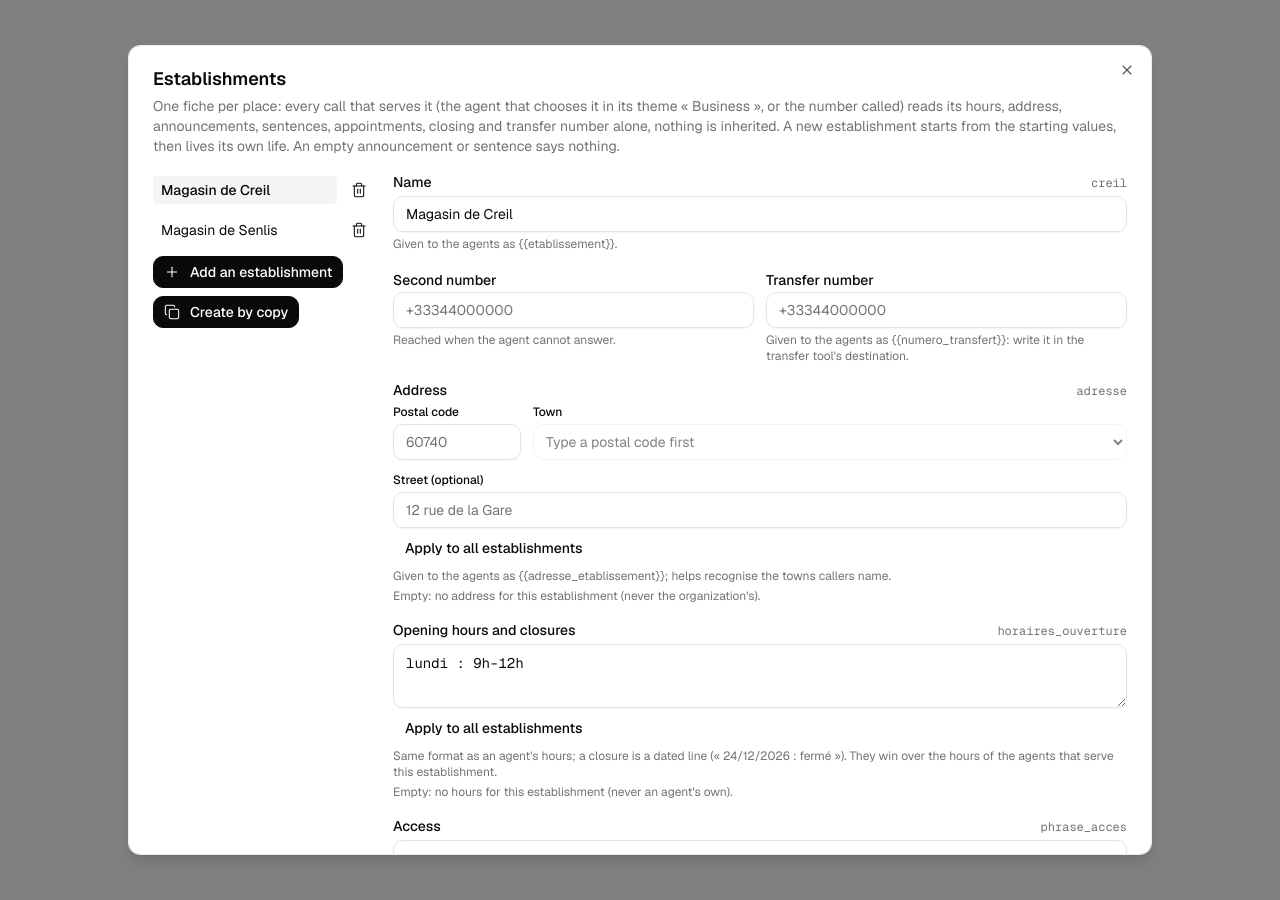
Scenario: [.mark] Apply to all establishments (D152) › names the establishments written and the value, sends only which setting, then reads the list again
Click the button with test id "appliquer-a-tous-fiche-horaires_ouverture": (494, 728) [393,712,594,744]
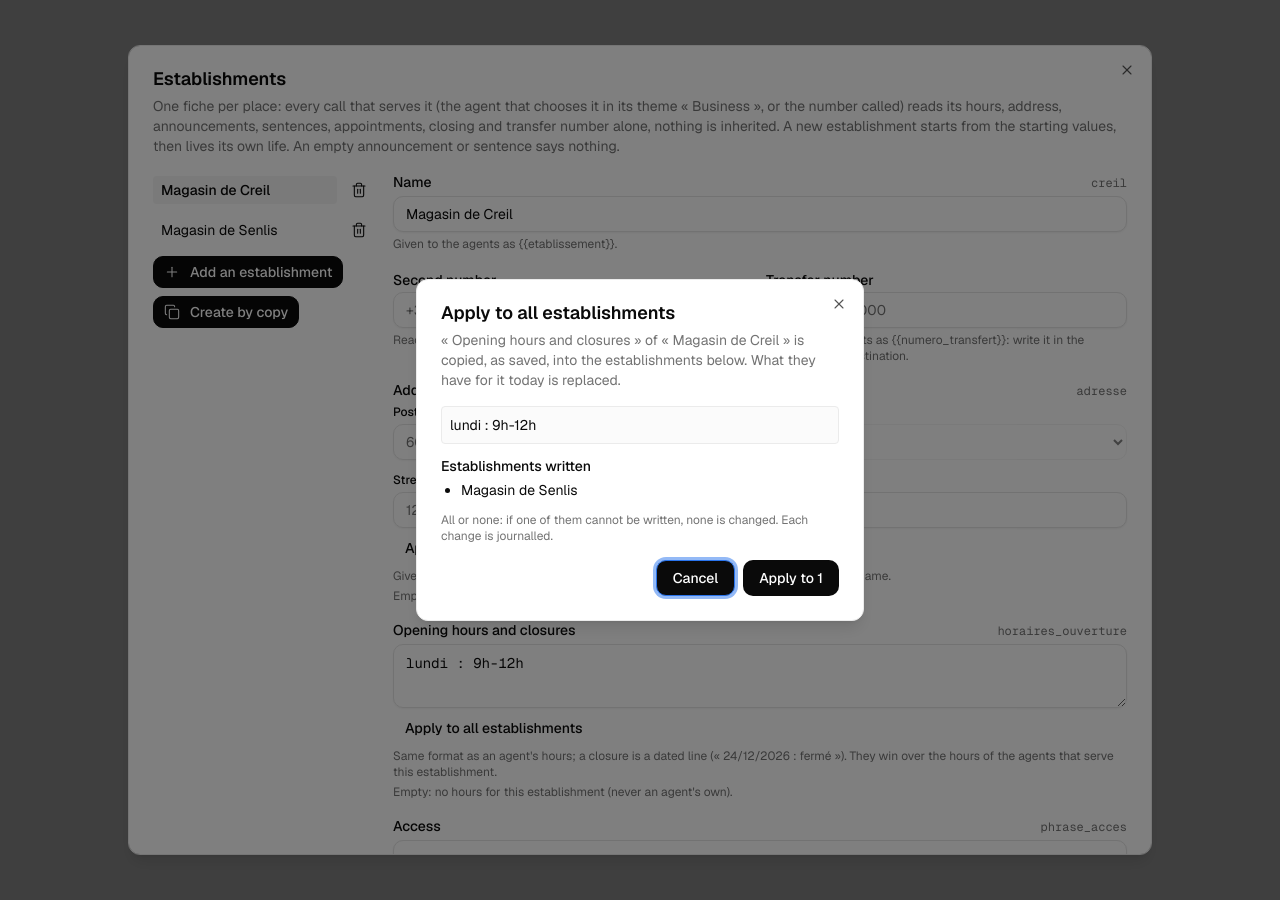
Now the text with test id "valeur-appliquee" reads "lundi : 9h-12h", box [450,416,536,434]
Now the list with test id "etablissements-touches" reads "Magasin de Senlis", box [461,481,578,499]
Click the button with test id "confirmer-appliquer-a-tous": (791, 578) [743,560,839,596]
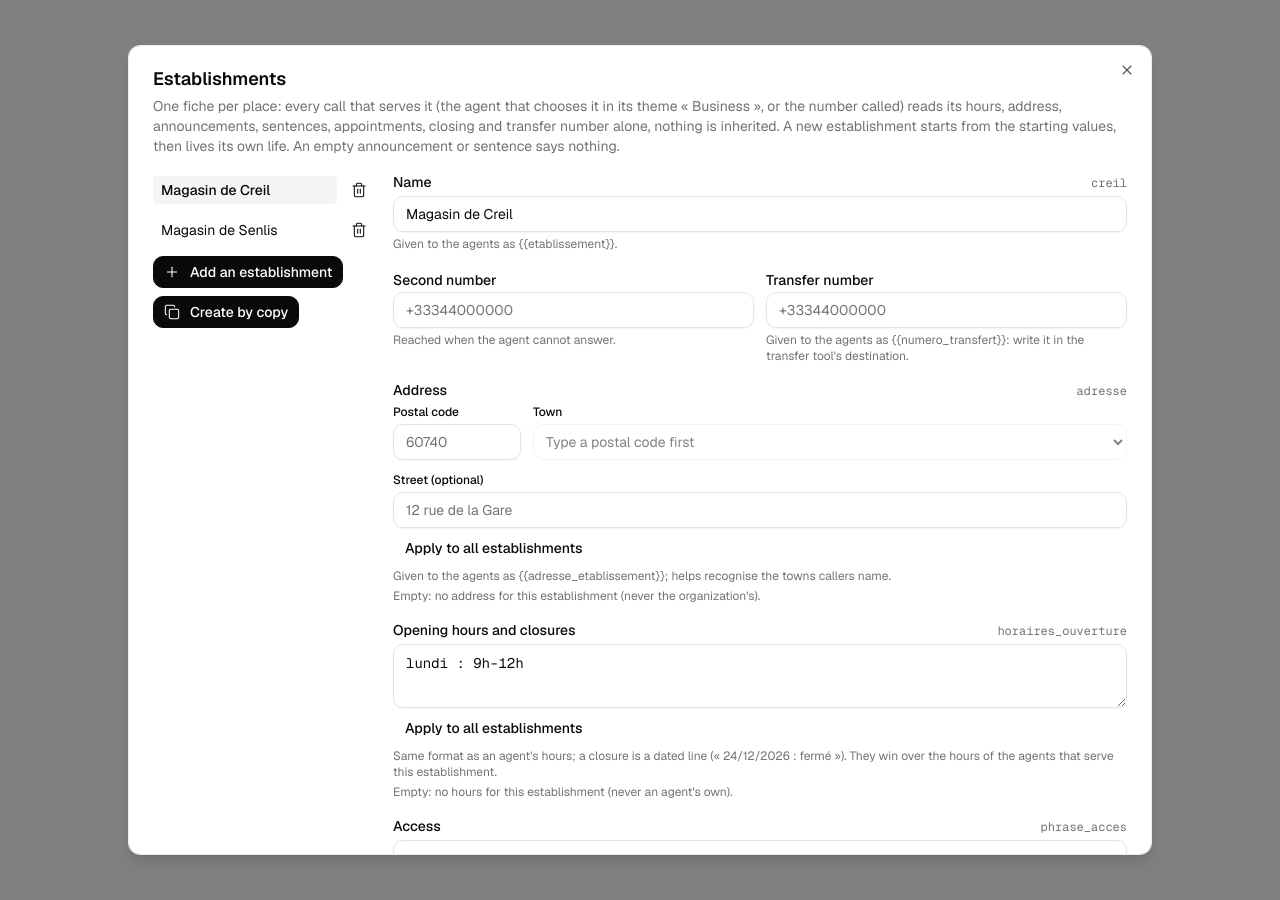
Now the dialog with test id "modale-appliquer-a-tous" is gone
